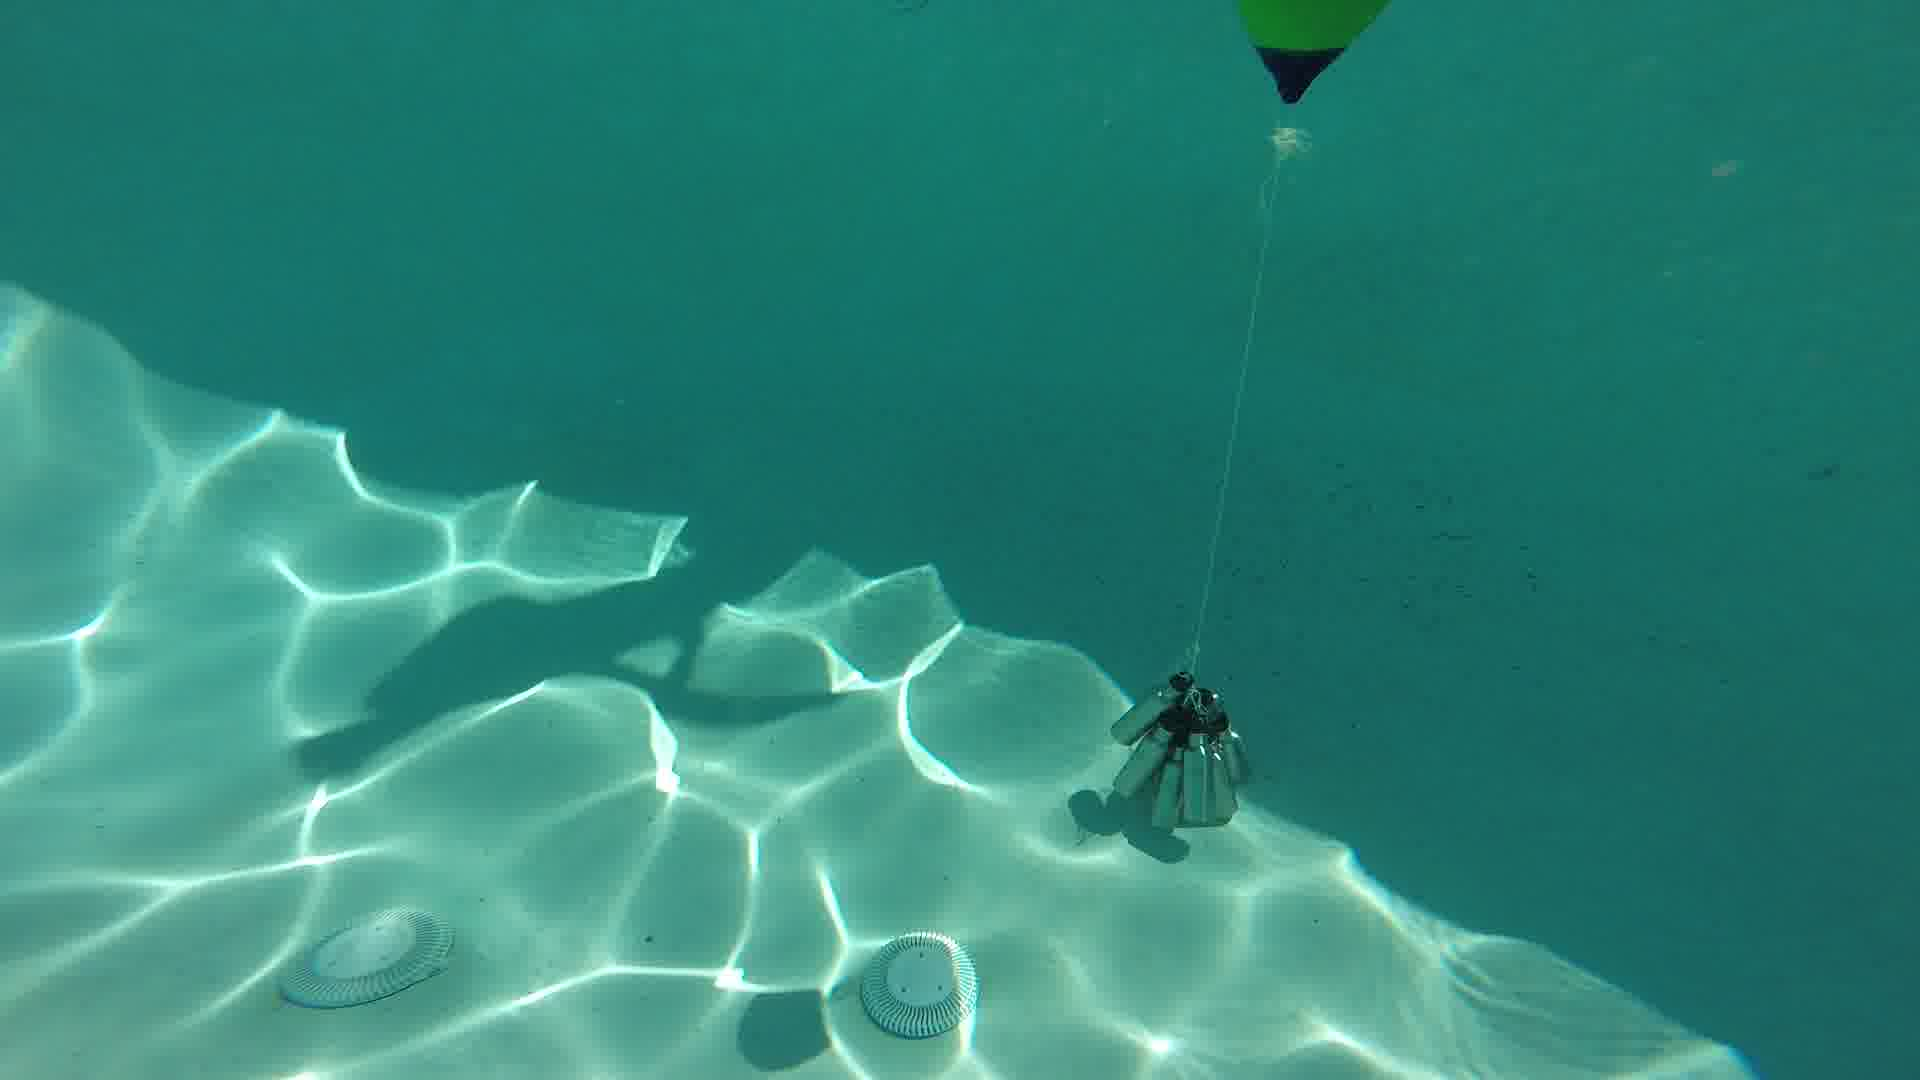yellow_buoy: (1236, 1, 1385, 160)
